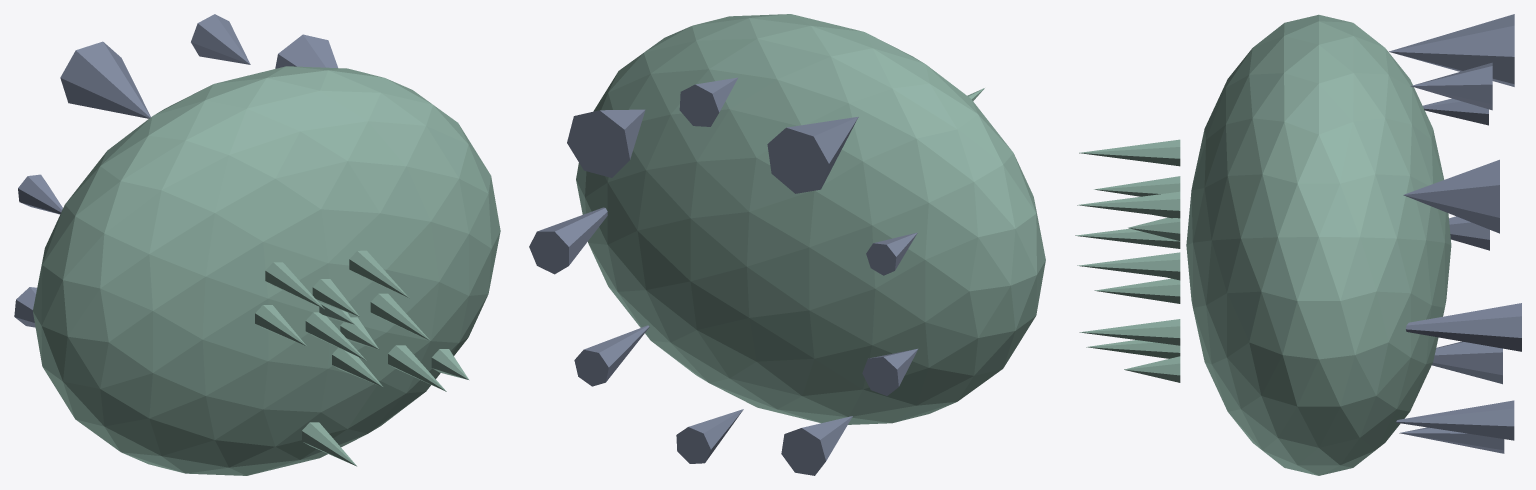
File: 10_Cloud_Forest_Island.glb
3 views of the same model, side by side, from view 1: azimuth 30°, elevation 25°; view 2: azimuth 150°, elevation 25°; view 3: azimuth 270°, elevation 25° (orthographic). The views are drawn at different scales.
Parts seen in each view (by area): view 1: 10_Cloud_Forest_Island_00, 10_Cloud_Forest_Island_04, 10_Cloud_Forest_Island_03, 10_Cloud_Forest_Island_02, 10_Cloud_Forest_Island_05, 10_Cloud_Forest_Island_21, 10_Cloud_Forest_Island_14, 10_Cloud_Forest_Island_16, 10_Cloud_Forest_Island_17, 10_Cloud_Forest_Island_20, 10_Cloud_Forest_Island_13, 10_Cloud_Forest_Island_11 (+5 smaller); view 2: 10_Cloud_Forest_Island_00, 10_Cloud_Forest_Island_04, 10_Cloud_Forest_Island_02, 10_Cloud_Forest_Island_01, 10_Cloud_Forest_Island_07, 10_Cloud_Forest_Island_09, 10_Cloud_Forest_Island_03, 10_Cloud_Forest_Island_08, 10_Cloud_Forest_Island_06, 10_Cloud_Forest_Island_05; view 3: 10_Cloud_Forest_Island_00, 10_Cloud_Forest_Island_04, 10_Cloud_Forest_Island_02, 10_Cloud_Forest_Island_01, 10_Cloud_Forest_Island_09, 10_Cloud_Forest_Island_07, 10_Cloud_Forest_Island_03, 10_Cloud_Forest_Island_16, 10_Cloud_Forest_Island_14, 10_Cloud_Forest_Island_17, 10_Cloud_Forest_Island_20, 10_Cloud_Forest_Island_08 (+8 smaller).
Boxes of the visible parts, x1=… form: 10_Cloud_Forest_Island_00: x1=33, y1=66, x2=500, y2=475; 10_Cloud_Forest_Island_04: x1=60, y1=41, x2=150, y2=118; 10_Cloud_Forest_Island_03: x1=191, y1=14, x2=250, y2=64; 10_Cloud_Forest_Island_02: x1=275, y1=34, x2=337, y2=68; 10_Cloud_Forest_Island_05: x1=18, y1=174, x2=62, y2=214; 10_Cloud_Forest_Island_21: x1=305, y1=312, x2=366, y2=360; 10_Cloud_Forest_Island_14: x1=370, y1=293, x2=430, y2=340; 10_Cloud_Forest_Island_16: x1=349, y1=250, x2=408, y2=297; 10_Cloud_Forest_Island_17: x1=265, y1=262, x2=324, y2=309; 10_Cloud_Forest_Island_20: x1=388, y1=345, x2=446, y2=391; 10_Cloud_Forest_Island_13: x1=302, y1=422, x2=356, y2=466; 10_Cloud_Forest_Island_11: x1=255, y1=305, x2=306, y2=346; 10_Cloud_Forest_Island_00: x1=576, y1=14, x2=1045, y2=424; 10_Cloud_Forest_Island_04: x1=767, y1=116, x2=858, y2=193; 10_Cloud_Forest_Island_02: x1=567, y1=109, x2=645, y2=177; 10_Cloud_Forest_Island_01: x1=529, y1=207, x2=607, y2=274; 10_Cloud_Forest_Island_07: x1=781, y1=416, x2=852, y2=475; 10_Cloud_Forest_Island_09: x1=574, y1=325, x2=649, y2=386; 10_Cloud_Forest_Island_03: x1=679, y1=77, x2=737, y2=126; 10_Cloud_Forest_Island_08: x1=676, y1=409, x2=743, y2=463; 10_Cloud_Forest_Island_06: x1=862, y1=348, x2=917, y2=395; 10_Cloud_Forest_Island_05: x1=866, y1=232, x2=917, y2=275; 10_Cloud_Forest_Island_00: x1=1186, y1=14, x2=1451, y2=475; 10_Cloud_Forest_Island_04: x1=1389, y1=14, x2=1514, y2=86; 10_Cloud_Forest_Island_02: x1=1403, y1=159, x2=1499, y2=233; 10_Cloud_Forest_Island_01: x1=1405, y1=303, x2=1521, y2=351; 10_Cloud_Forest_Island_09: x1=1395, y1=400, x2=1514, y2=440; 10_Cloud_Forest_Island_07: x1=1432, y1=341, x2=1502, y2=384; 10_Cloud_Forest_Island_03: x1=1410, y1=62, x2=1492, y2=110; 10_Cloud_Forest_Island_16: x1=1077, y1=191, x2=1180, y2=218; 10_Cloud_Forest_Island_14: x1=1077, y1=252, x2=1180, y2=278; 10_Cloud_Forest_Island_17: x1=1079, y1=139, x2=1180, y2=166; 10_Cloud_Forest_Island_20: x1=1079, y1=319, x2=1180, y2=345; 10_Cloud_Forest_Island_08: x1=1399, y1=427, x2=1504, y2=453.
Size of the model in its own units: 11 by 9.02 by 9.12.
